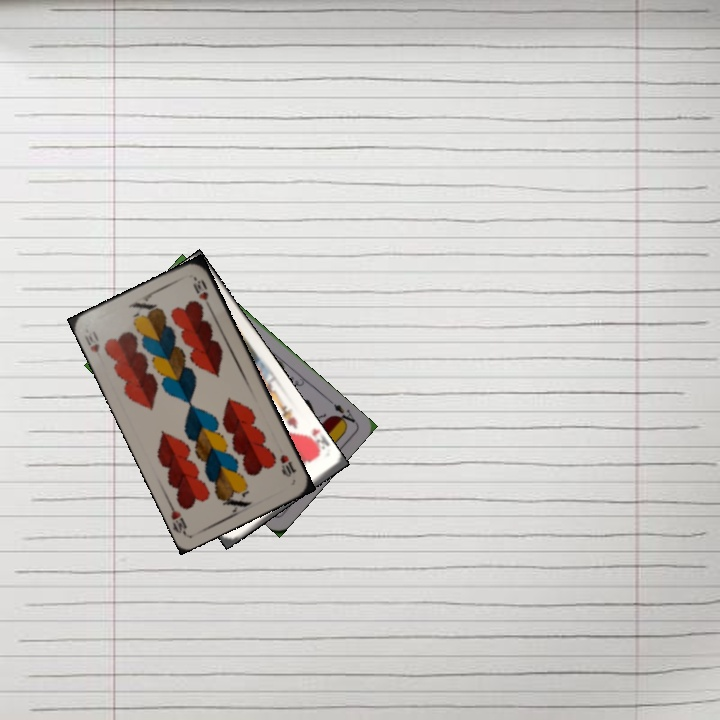EA: (325, 395, 358, 429)
H10: (276, 450, 299, 479), (80, 327, 102, 355)
HK: (298, 428, 330, 459)
